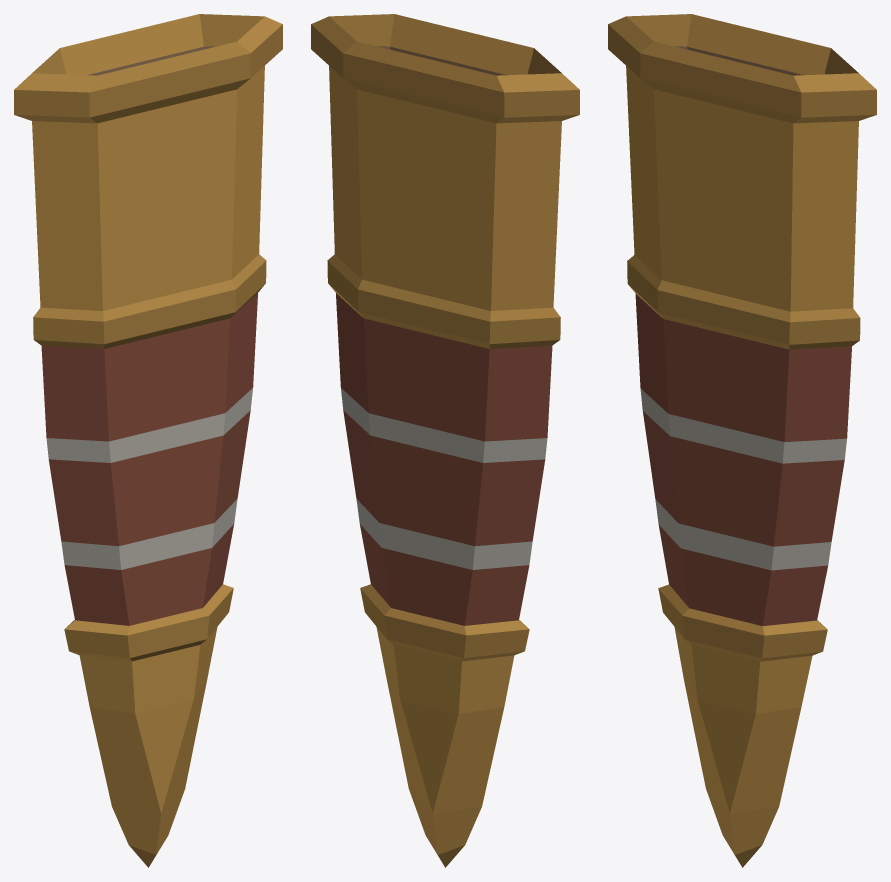
The model's file is SM_pwe_rome_dagger_scabbard_02.fbx.
3 renders of one model, left to right at view 1: azimuth 30°, elevation 25°; view 2: azimuth 150°, elevation 25°; view 3: azimuth 330°, elevation 25°, orthographic.
Parts seen in each view (by area): view 1: SM_pwe_rome_dagger_scabbard_02; view 2: SM_pwe_rome_dagger_scabbard_02; view 3: SM_pwe_rome_dagger_scabbard_02.
Boxes of the visible parts, x1,y1,x2,y2 form: SM_pwe_rome_dagger_scabbard_02: (14,14,282,867); SM_pwe_rome_dagger_scabbard_02: (311,14,579,867); SM_pwe_rome_dagger_scabbard_02: (608,14,876,867).
Bounding box in the file's own units: 11.06 × 32.33 × 3.09.
